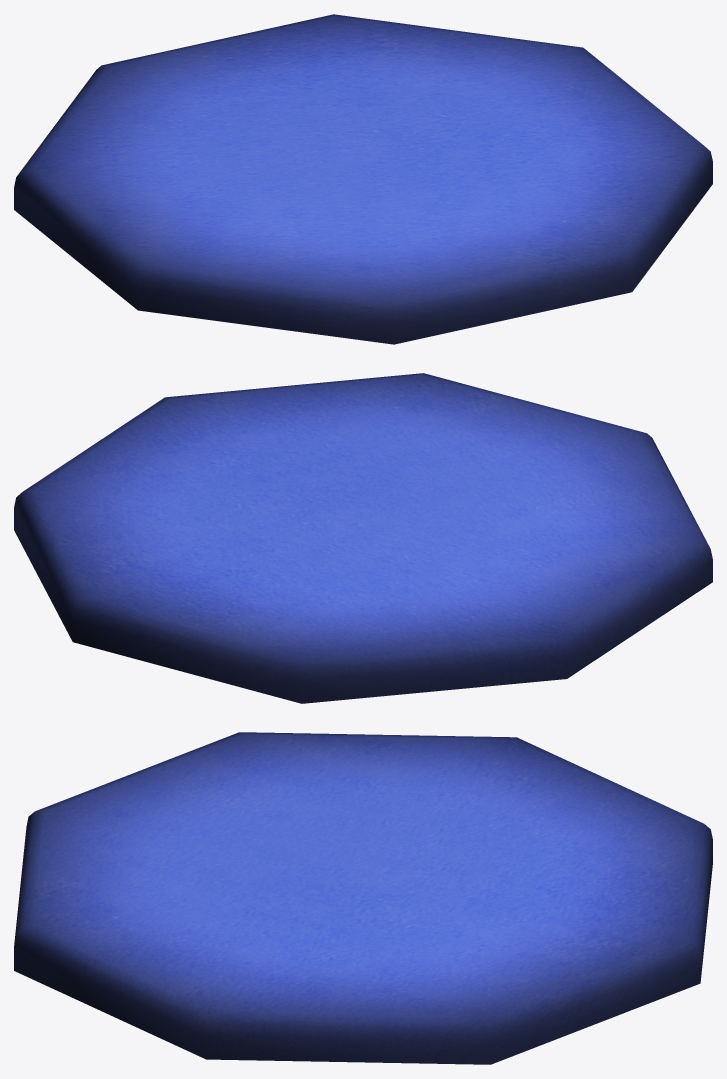
Rendered from Dice_Pusher.FBX.
3 views of the same model, one above another, from view 1: azimuth 30°, elevation 25°; view 2: azimuth 150°, elevation 25°; view 3: azimuth 270°, elevation 25° (orthographic). The views are drawn at different scales.
Visible parts, largest first — view 1: Dice_Pusher; view 2: Dice_Pusher; view 3: Dice_Pusher.
Boxes of the visible parts, bbox=[...] form: Dice_Pusher: bbox=[14, 14, 712, 344]; Dice_Pusher: bbox=[14, 373, 712, 703]; Dice_Pusher: bbox=[14, 732, 712, 1064].
Size of the model in its own units: 24.95 by 1.7 by 24.95.
1 material, 1 textured.
